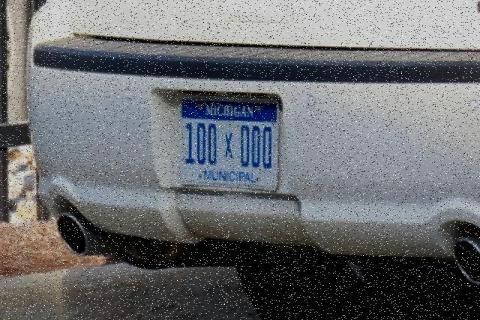LicensePlate: (178, 95, 278, 190)
